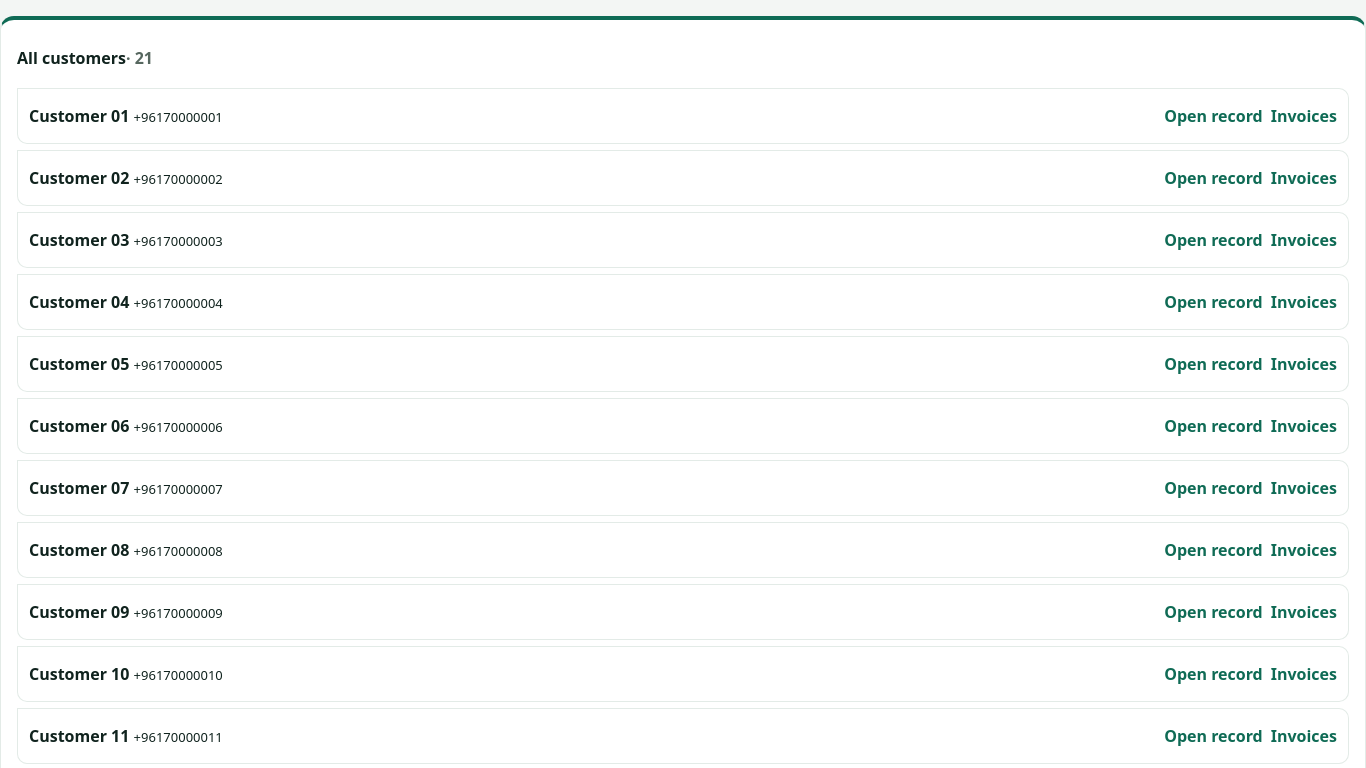
Test: all customers page 20 at a time and each expands to its invoices, which open in Invoices (D-101)
Click the button "Invoices" in the row of "+96170000001" at (1304, 116), box [1271, 94, 1337, 138]
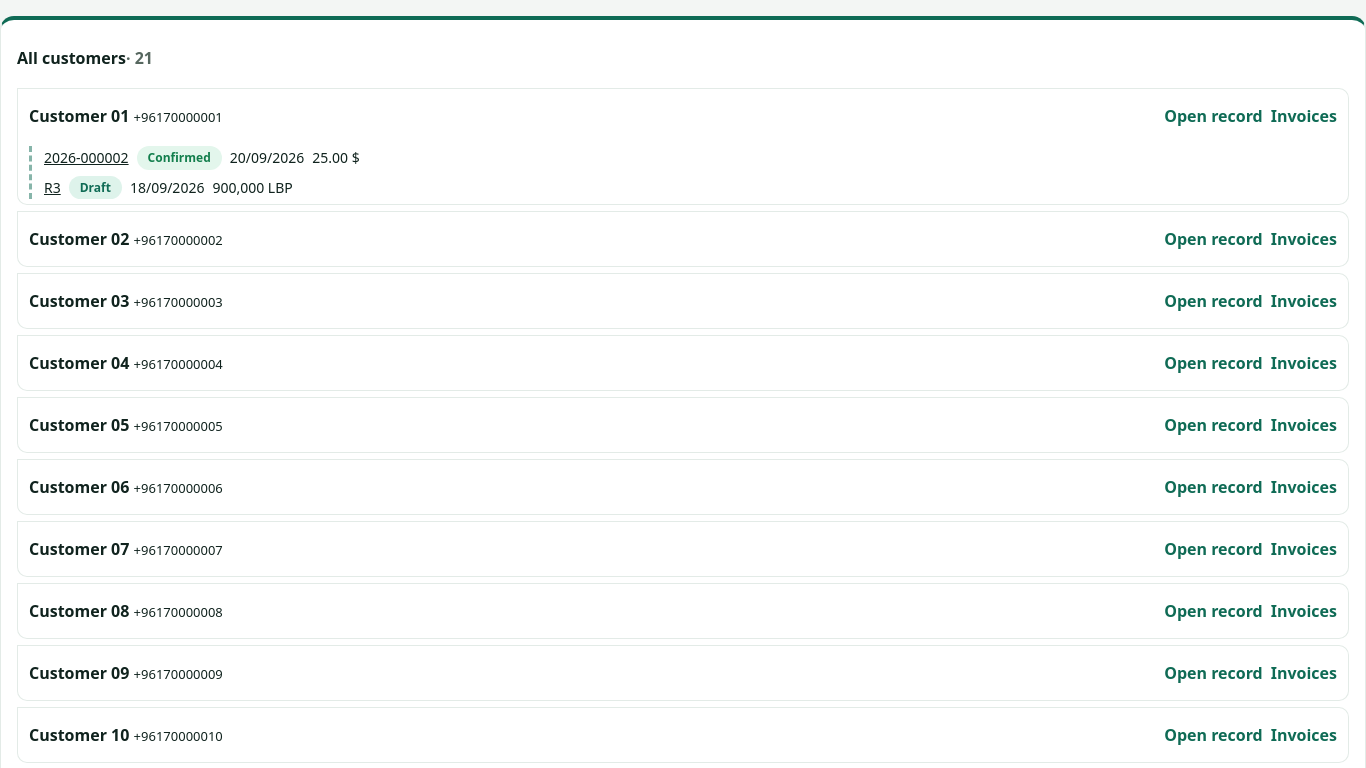
Check: the text "Confirmed" is shown, box [137, 146, 222, 170]
Check: the text "Draft" is shown, box [69, 176, 122, 199]
Check: the text "900,000 LBP" is shown, box [212, 177, 293, 198]
# A customer with none says so.
Click the button "Invoices" in the row of "+96170000002" at (1304, 239), box [1271, 217, 1337, 261]
(page scrolled)
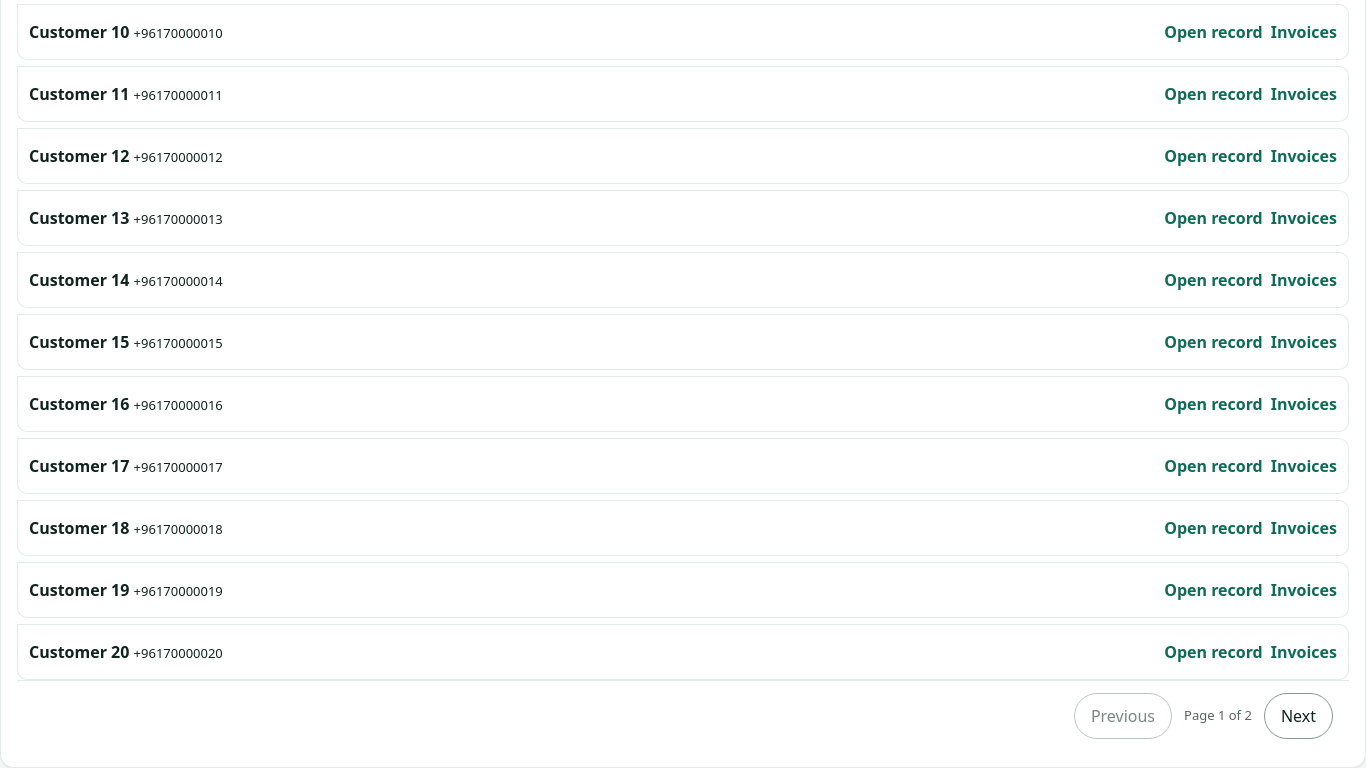
# Next page.
Click the button "Next" at (1298, 716), box [1264, 693, 1333, 739]
(page scrolled)
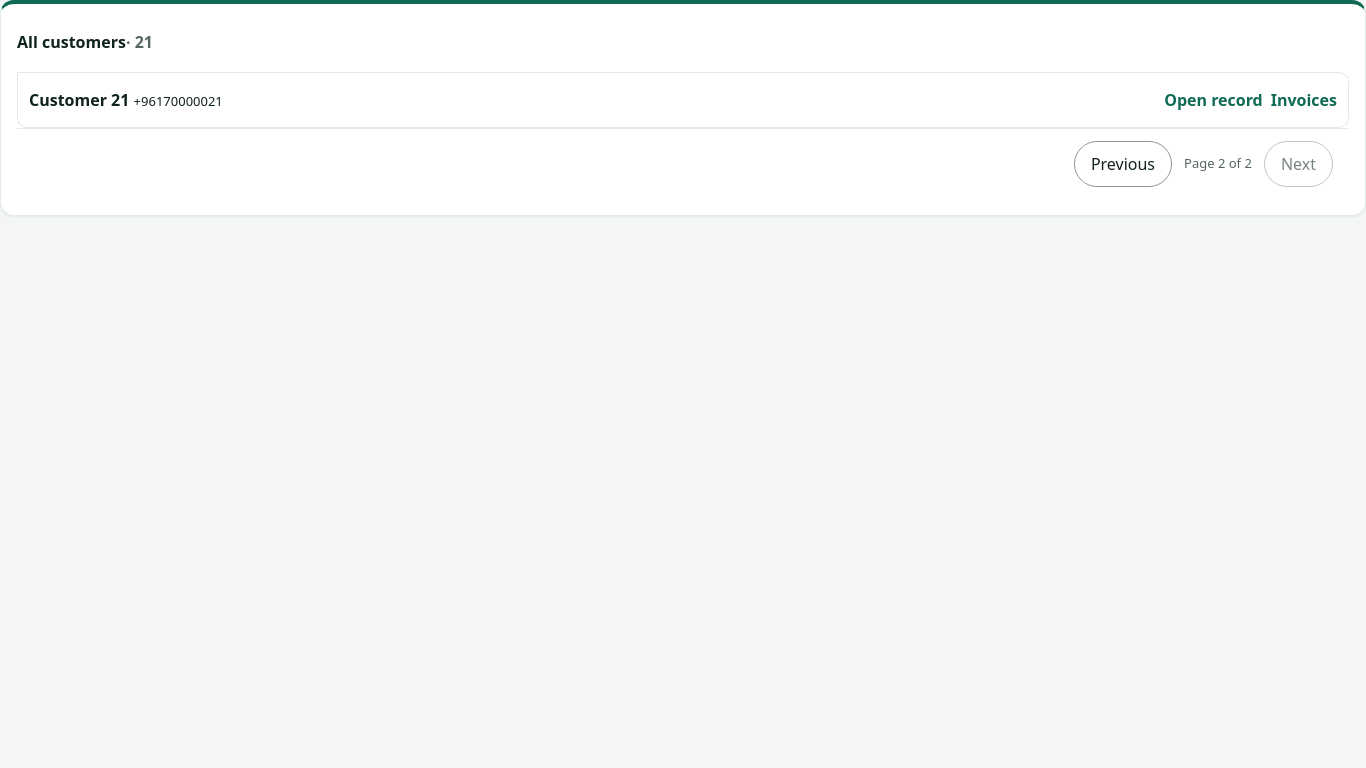
Check: the number of list items is 1, box [17, 72, 1349, 128]
Check: the text "Customer 21" is shown, box [29, 89, 129, 111]
